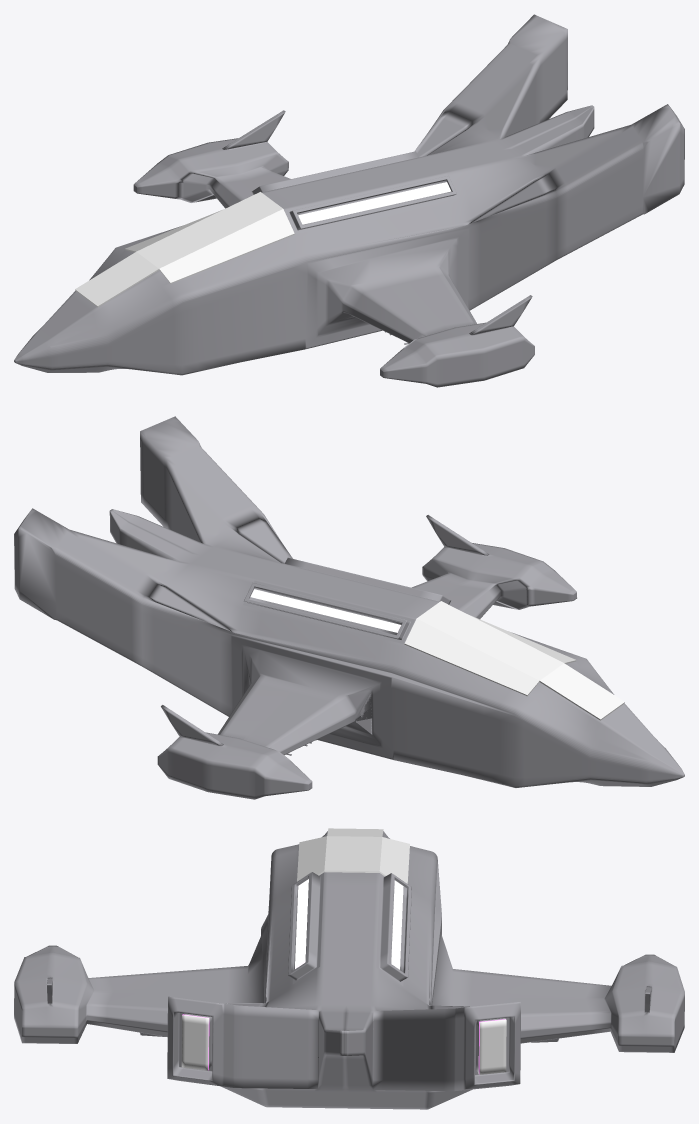
File: astronave.glb
3 renders of one model, top to bottom at view 1: azimuth 30°, elevation 25°; view 2: azimuth 150°, elevation 25°; view 3: azimuth 270°, elevation 25°, orthographic. The views are drawn at different scales.
Visible parts, largest first — view 1: Astronave, Astronave.001; view 2: Astronave, Astronave.001; view 3: Astronave, Astronave.001.
Boxes of the visible parts, x1=… form: Astronave: x1=14, y1=14, x2=684, y2=387; Astronave.001: x1=75, y1=192, x2=294, y2=307; Astronave: x1=14, y1=416, x2=684, y2=799; Astronave.001: x1=404, y1=601, x2=624, y2=720; Astronave: x1=14, y1=831, x2=684, y2=1109; Astronave.001: x1=297, y1=828, x2=409, y2=883.
Bounding box in the file's own units: 9.84 × 2.77 × 8.06.
